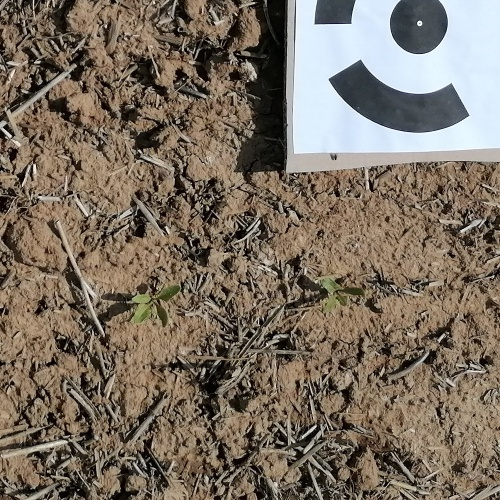beet: (132, 284, 181, 324), (321, 279, 366, 314)
